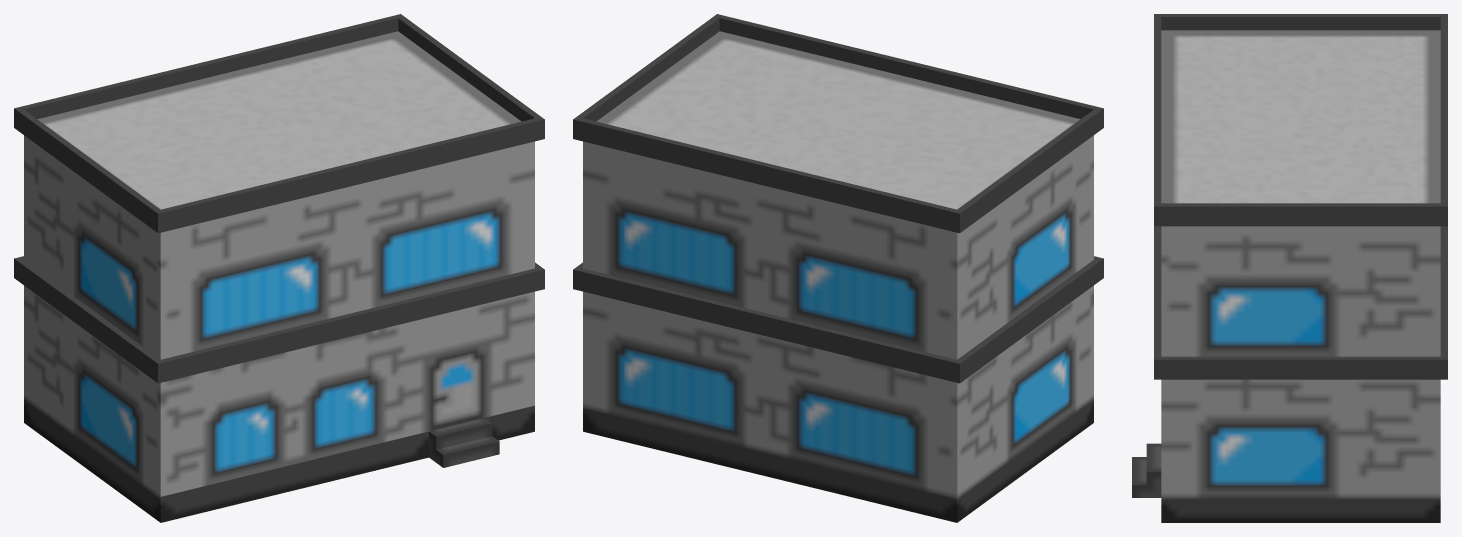
The model's file is House_0.fbx.
3 renders of one model, left to right at view 1: azimuth 30°, elevation 25°; view 2: azimuth 150°, elevation 25°; view 3: azimuth 270°, elevation 25°, orthographic.
Parts seen in each view (by area): view 1: Matrix_20; view 2: Matrix_20; view 3: Matrix_20.
Boxes of the visible parts, <box> form: Matrix_20: <box>14,14,544,522</box>; Matrix_20: <box>573,14,1103,522</box>; Matrix_20: <box>1132,14,1447,522</box>.
Size of the model in its own units: 62 by 48 by 43.
